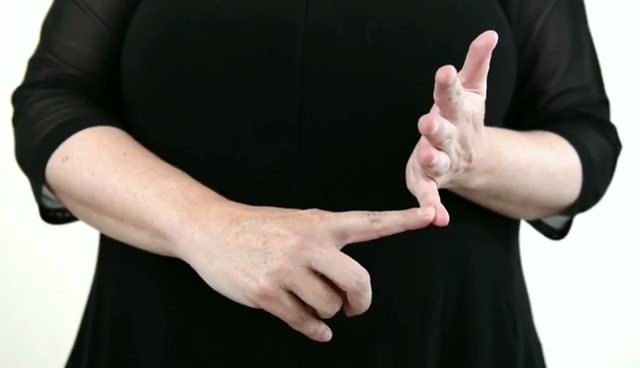U: (201, 17, 519, 352)
